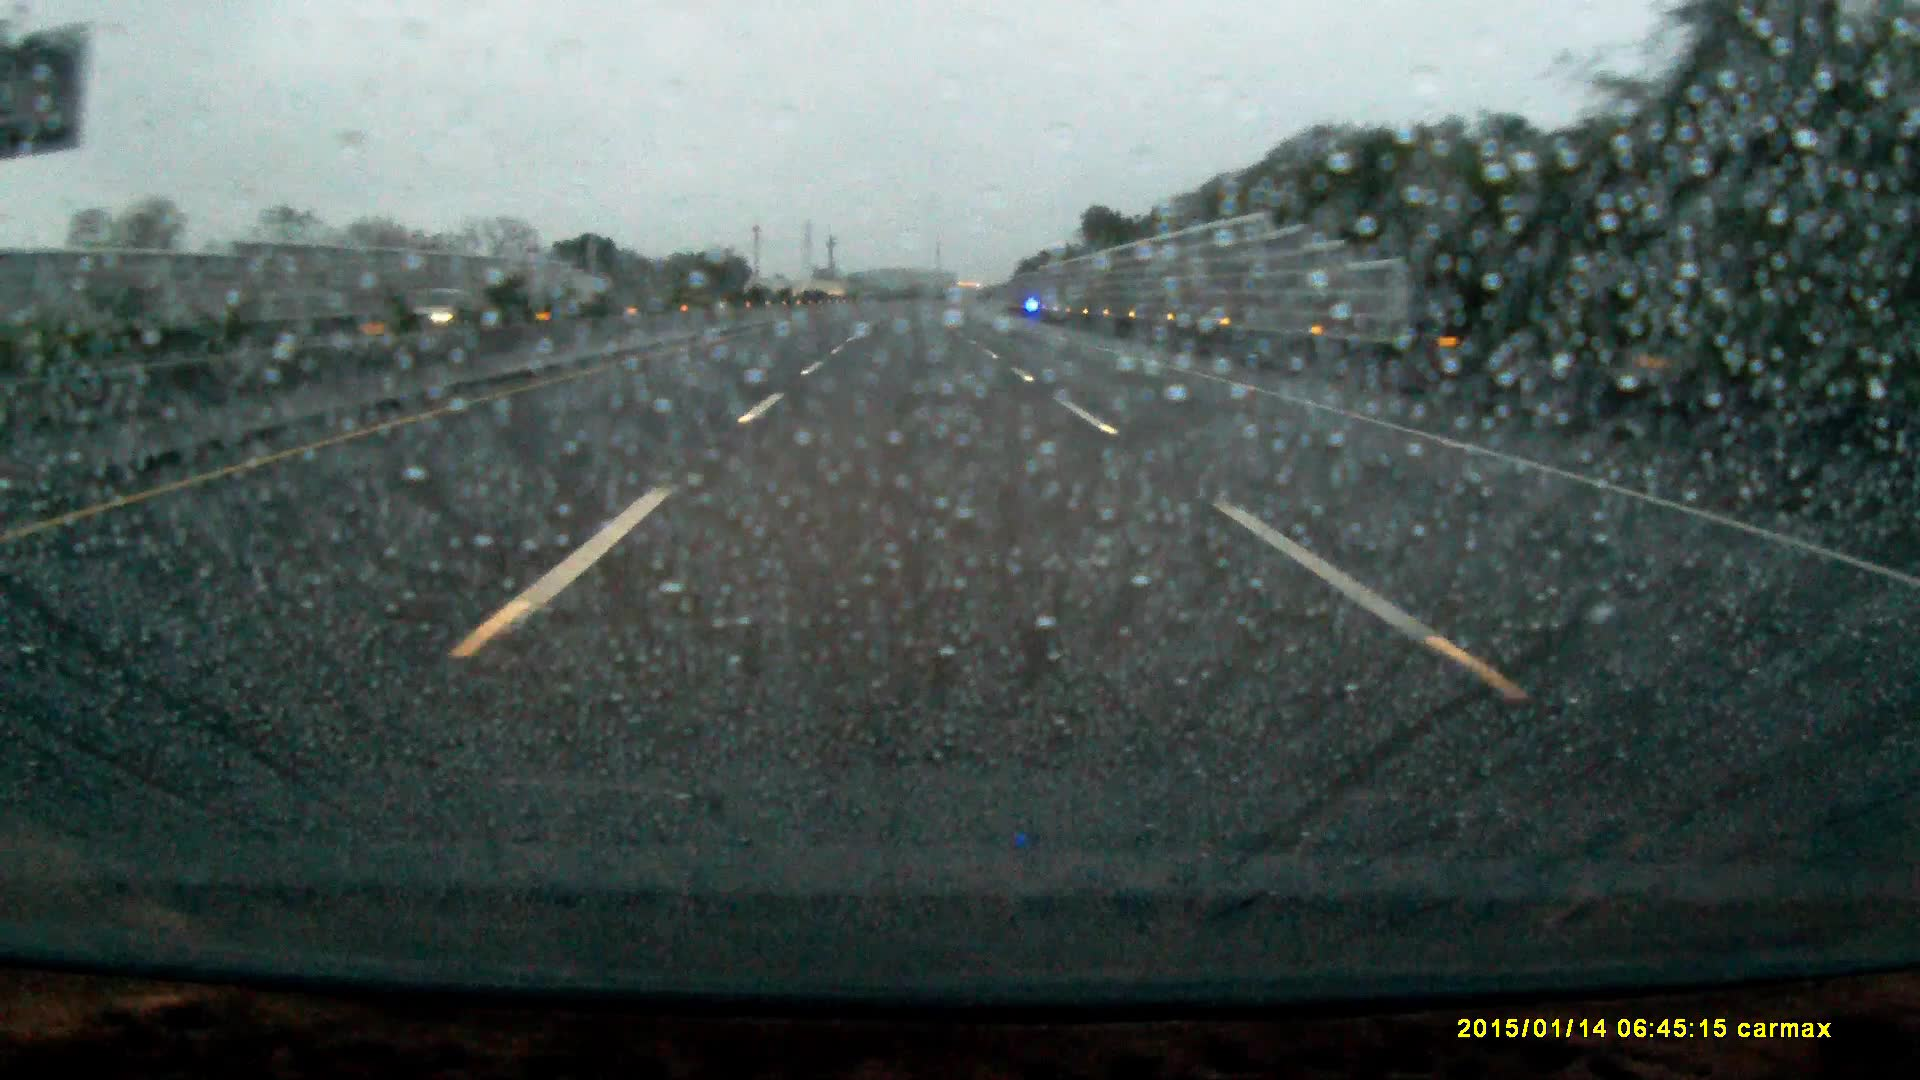vehicle: (392, 287, 469, 327)
